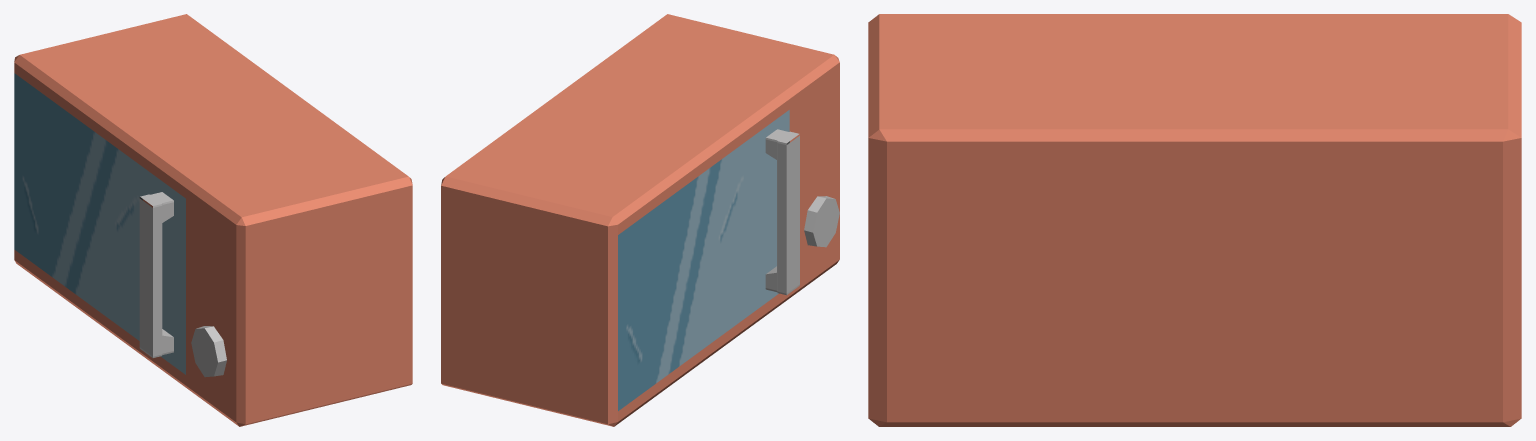
The model's file is micro-onde.fbx.
The picture shows the model from 3 angles, left to right: view 1: azimuth 30°, elevation 25°; view 2: azimuth 150°, elevation 25°; view 3: azimuth 270°, elevation 25°; orthographic projection. The views are drawn at different scales.
Parts seen in each view (by area): view 1: Micro-onde; view 2: Micro-onde; view 3: Micro-onde.
Boxes of the visible parts, box(x1,y1,x2,y2) form: Micro-onde: box(14, 14, 412, 426); Micro-onde: box(441, 14, 839, 426); Micro-onde: box(868, 14, 1521, 426).
Size of the model in its own units: 50 by 50 by 100.
Materials: 1 (1 with a texture image).
